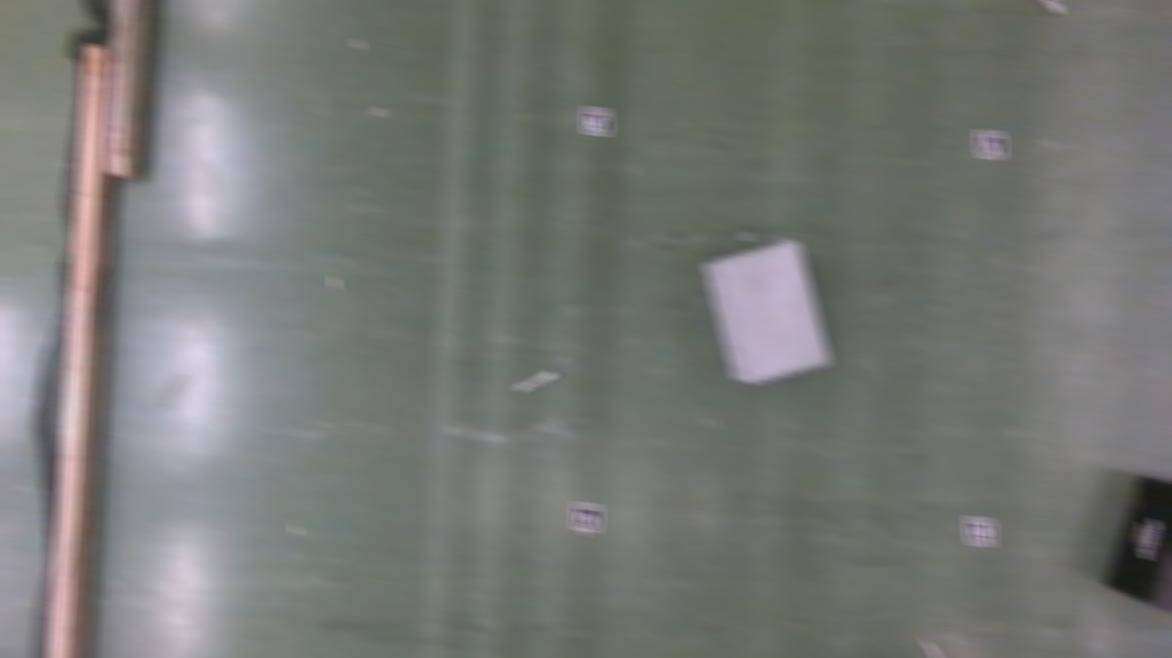probes: (514, 371, 552, 393), (922, 638, 948, 658), (1027, 0, 1061, 14)
rako: (704, 241, 830, 388), (1105, 477, 1172, 609)
